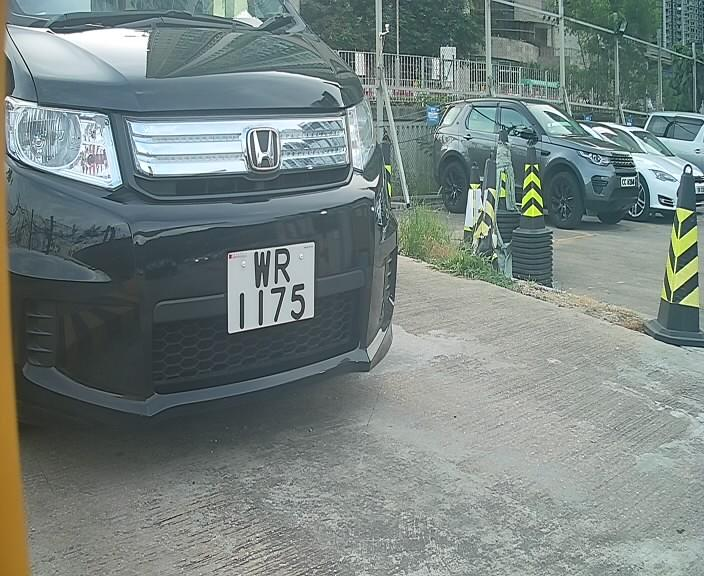License Plate: (217, 229, 321, 340)
